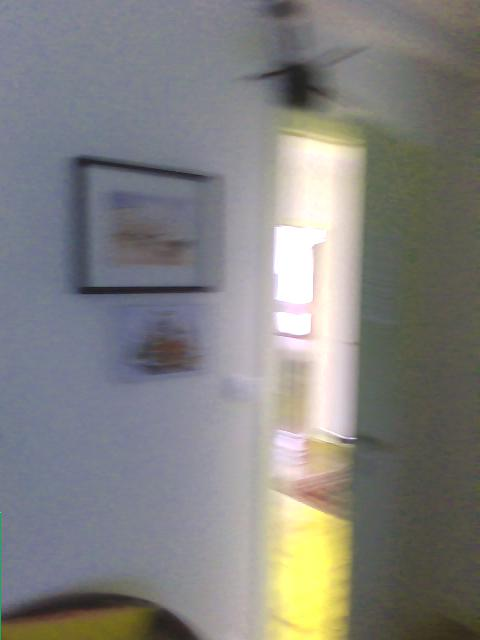semi_door: (259, 107, 443, 639)
